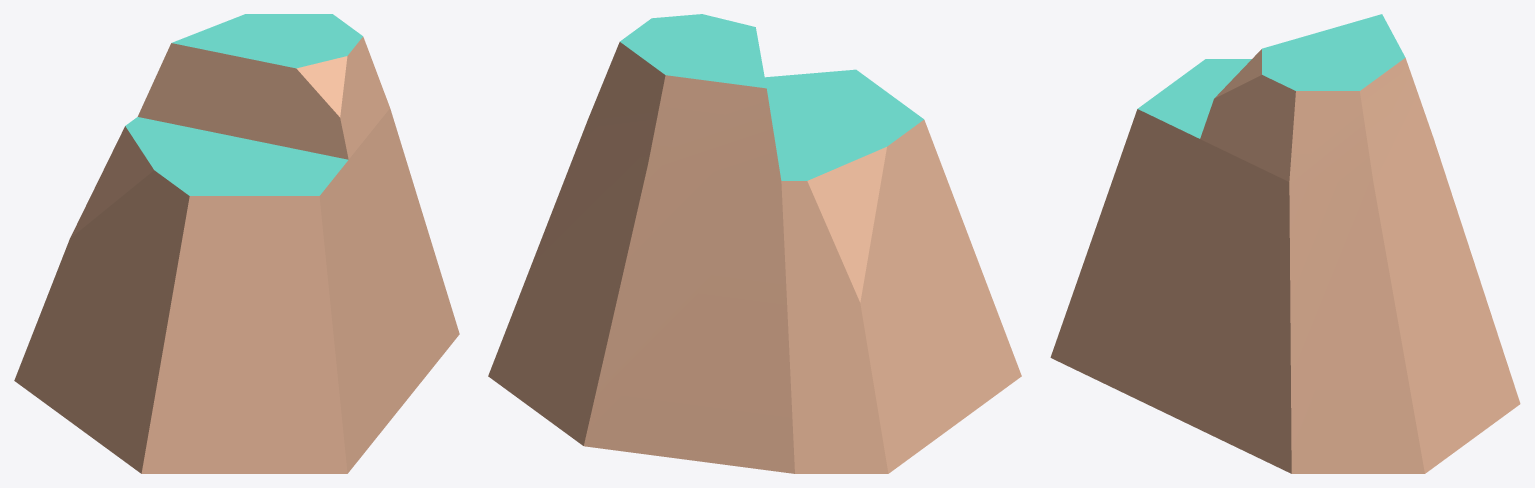
Rendered from Cliff_Simple1.fbx.
3 renders of one model, left to right at view 1: azimuth 30°, elevation 25°; view 2: azimuth 150°, elevation 25°; view 3: azimuth 270°, elevation 25°, orthographic. The views are drawn at different scales.
Visible parts, largest first — view 1: Cliff_Simple1; view 2: Cliff_Simple1; view 3: Cliff_Simple1.
Boxes of the visible parts, x1,y1,x2,y2 form: Cliff_Simple1: (14, 14, 459, 473); Cliff_Simple1: (488, 14, 1021, 473); Cliff_Simple1: (1050, 14, 1520, 473).
Size of the model in its own units: 1224 by 979 by 1246.
